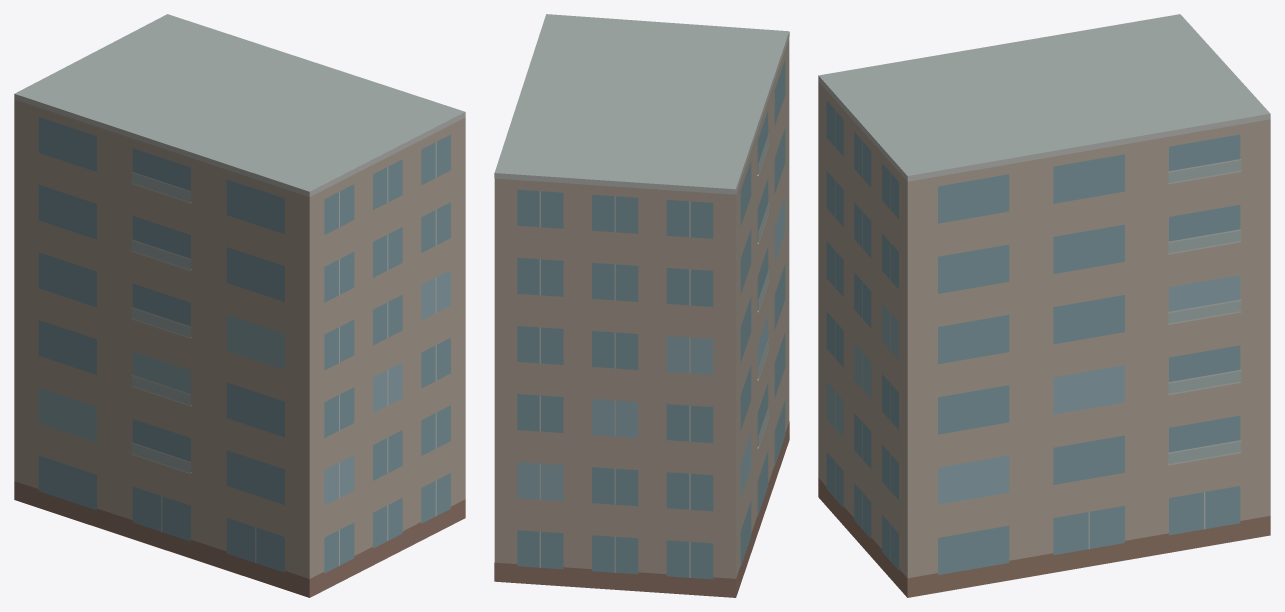
File: survey-upis-32582843.glb
The picture shows the model from 3 angles, left to right: view 1: azimuth 30°, elevation 25°; view 2: azimuth 150°, elevation 25°; view 3: azimuth 270°, elevation 25°; orthographic projection. The views are drawn at different scales.
Visible parts, largest first — view 1: survey-upis-32582843.tmp; view 2: survey-upis-32582843.tmp; view 3: survey-upis-32582843.tmp.
Boxes of the visible parts, <box> form: survey-upis-32582843.tmp: <box>14,14,465,597</box>; survey-upis-32582843.tmp: <box>494,14,789,597</box>; survey-upis-32582843.tmp: <box>818,14,1270,597</box>.
Bounding box in the file's own units: 15.1 × 18.3 × 17.79.
